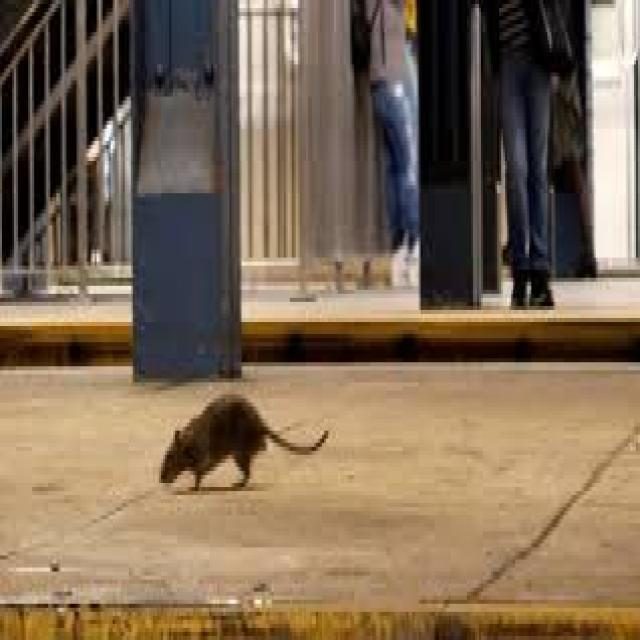Rat: (136, 368, 343, 504)
